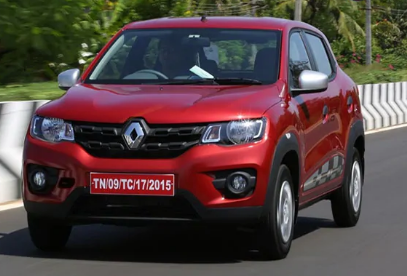car: (19, 11, 367, 265)
